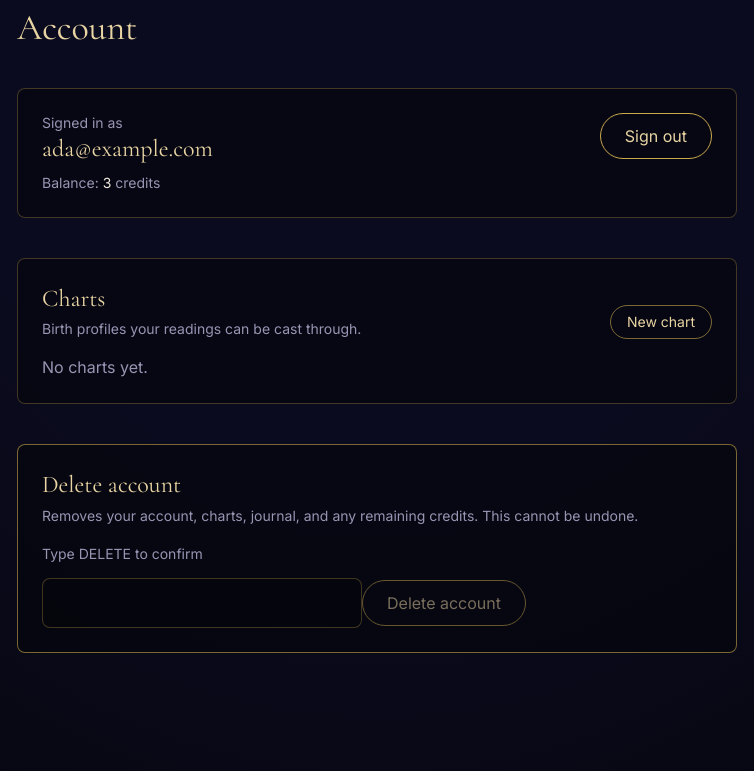
Test: signed-in user sees their email and signs out directly into a fresh anonymous session
The image size is (754, 771).
expect the text "ada@example.com" is shown: met, box [42,133,213,165]
expect the button "Sign in" is not shown: met
Click the button "Sign out": (656, 136) [600,113,712,159]
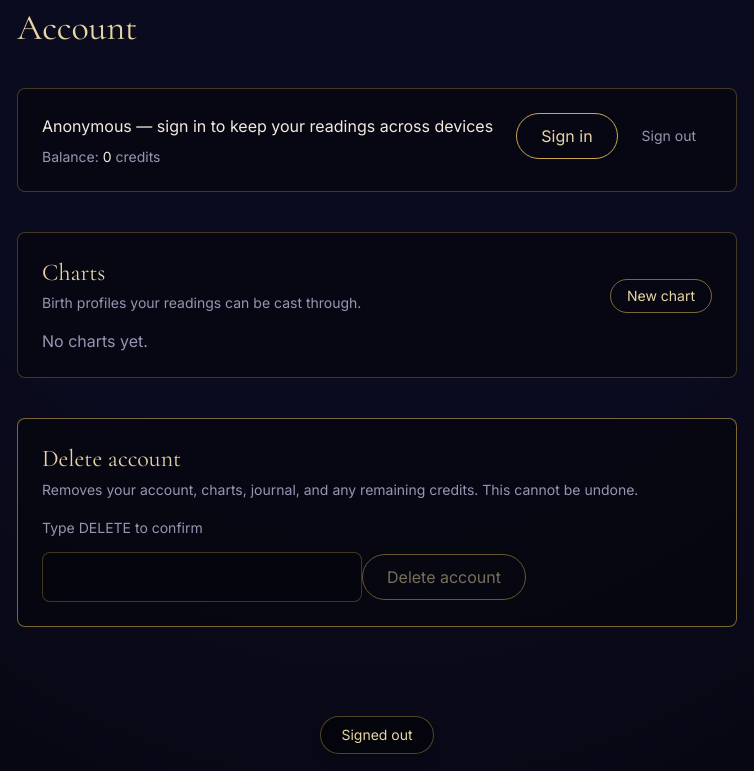
expect the text "Anonymous — sign in to keep your readings across devices" is shown: met, box [42,113,493,139]
expect the text "Signed out" is shown: met, box [320,716,434,754]
